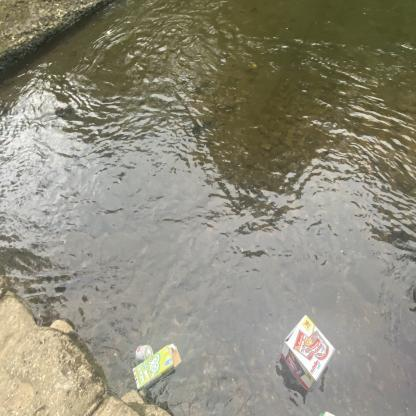trash: (276, 314, 340, 394), (127, 339, 184, 392), (131, 336, 156, 367), (316, 408, 340, 416)
